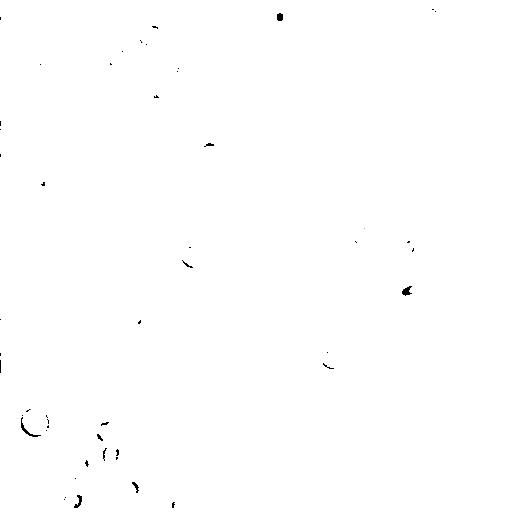micro-algae: (199, 353, 262, 417), (305, 271, 370, 331), (365, 124, 418, 171), (128, 0, 192, 24), (58, 457, 91, 499), (16, 404, 51, 440), (78, 81, 108, 122), (338, 411, 375, 444), (261, 0, 294, 33), (70, 427, 101, 460), (201, 475, 229, 510), (173, 55, 203, 87), (391, 279, 425, 305), (394, 231, 423, 259), (352, 69, 379, 99), (289, 55, 317, 83), (403, 271, 434, 296), (402, 311, 426, 343), (195, 142, 224, 167), (420, 0, 454, 21), (199, 118, 227, 143), (382, 389, 407, 417), (136, 23, 163, 47), (261, 458, 285, 484), (259, 118, 287, 140), (180, 245, 205, 269), (96, 419, 121, 443), (358, 301, 382, 326), (105, 44, 129, 67), (170, 487, 193, 511), (51, 86, 75, 106), (188, 303, 205, 331), (321, 349, 342, 371), (119, 477, 142, 497), (299, 343, 318, 367), (34, 41, 59, 59), (61, 491, 84, 509), (353, 225, 373, 244), (127, 307, 145, 327), (102, 445, 120, 465), (25, 51, 43, 70), (2, 101, 15, 127), (1, 347, 15, 370), (31, 173, 49, 188), (49, 0, 69, 13), (85, 453, 99, 471), (1, 1, 14, 17)
